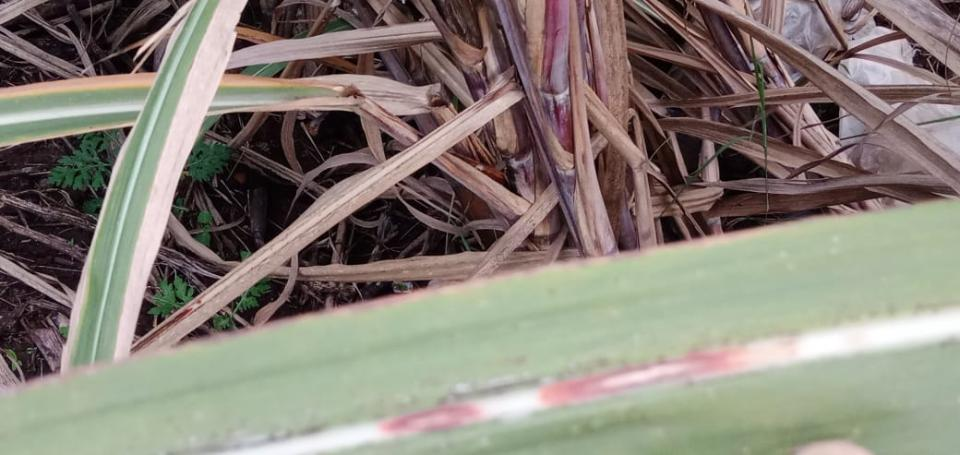RedRot: (539, 341, 799, 404), (377, 403, 483, 434)
Yellow: (1, 214, 844, 400), (60, 1, 198, 372), (114, 0, 248, 358), (0, 73, 157, 99), (0, 120, 136, 148), (205, 97, 353, 116), (220, 74, 342, 89)
